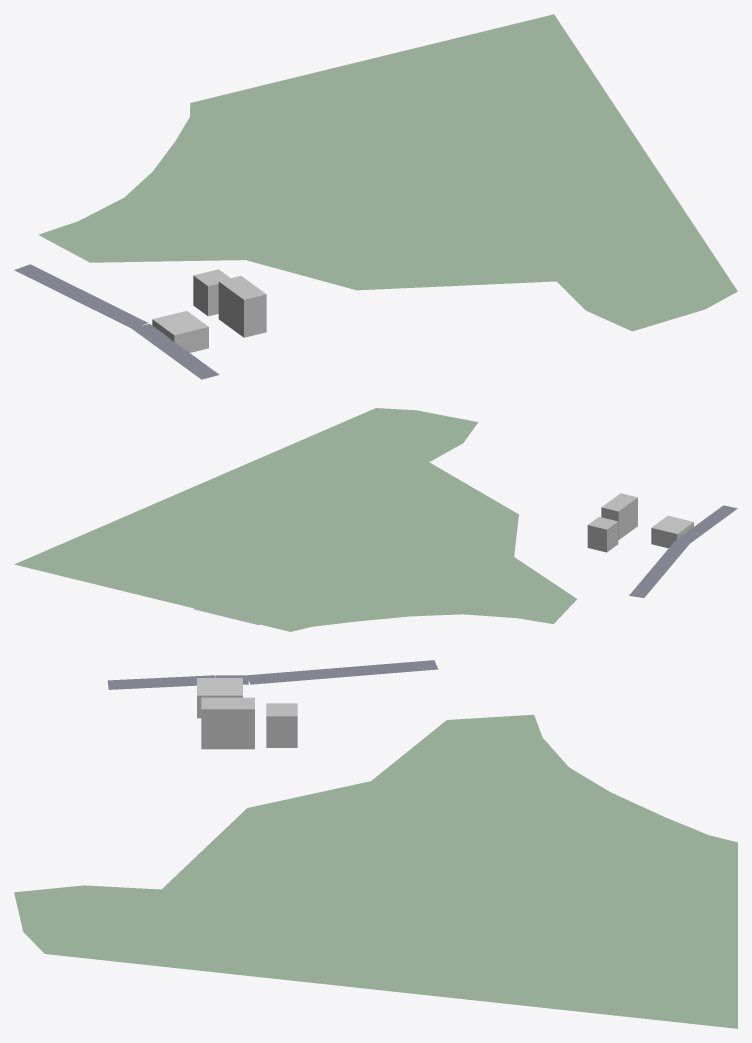
Rendered from 138_118_mid.glb.
3 renders of one model, top to bottom at view 1: azimuth 30°, elevation 25°; view 2: azimuth 150°, elevation 25°; view 3: azimuth 270°, elevation 25°, orthographic. The views are drawn at different scales.
Bounding box in the file's own units: 386 × 21.87 × 336.
